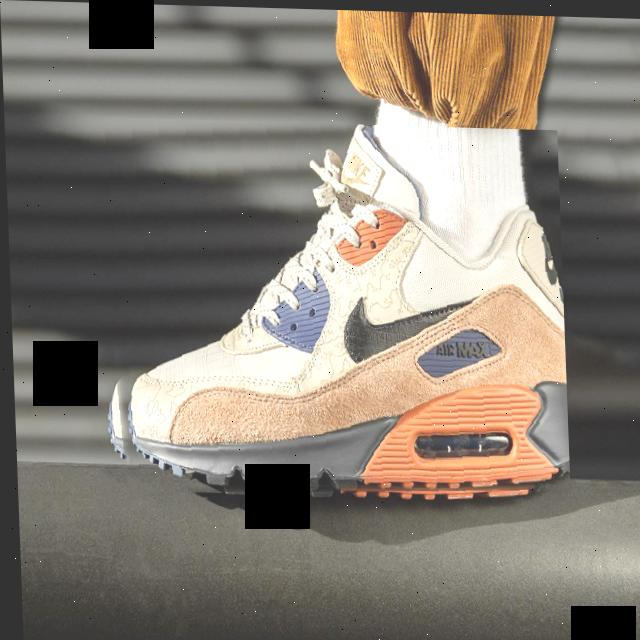shoe: (88, 116, 567, 503)
